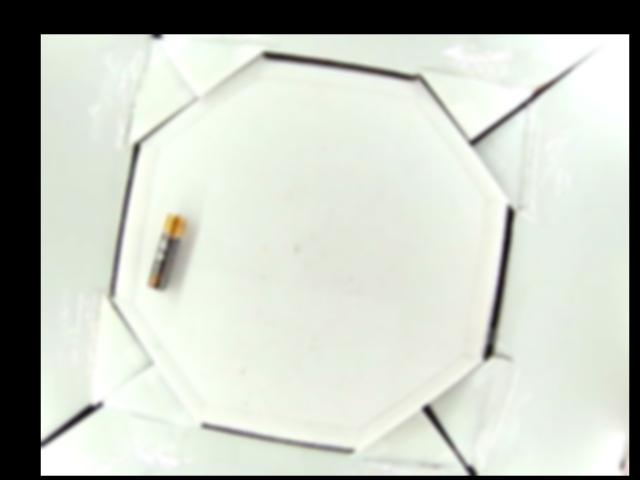Battery: (147, 211, 185, 291)
